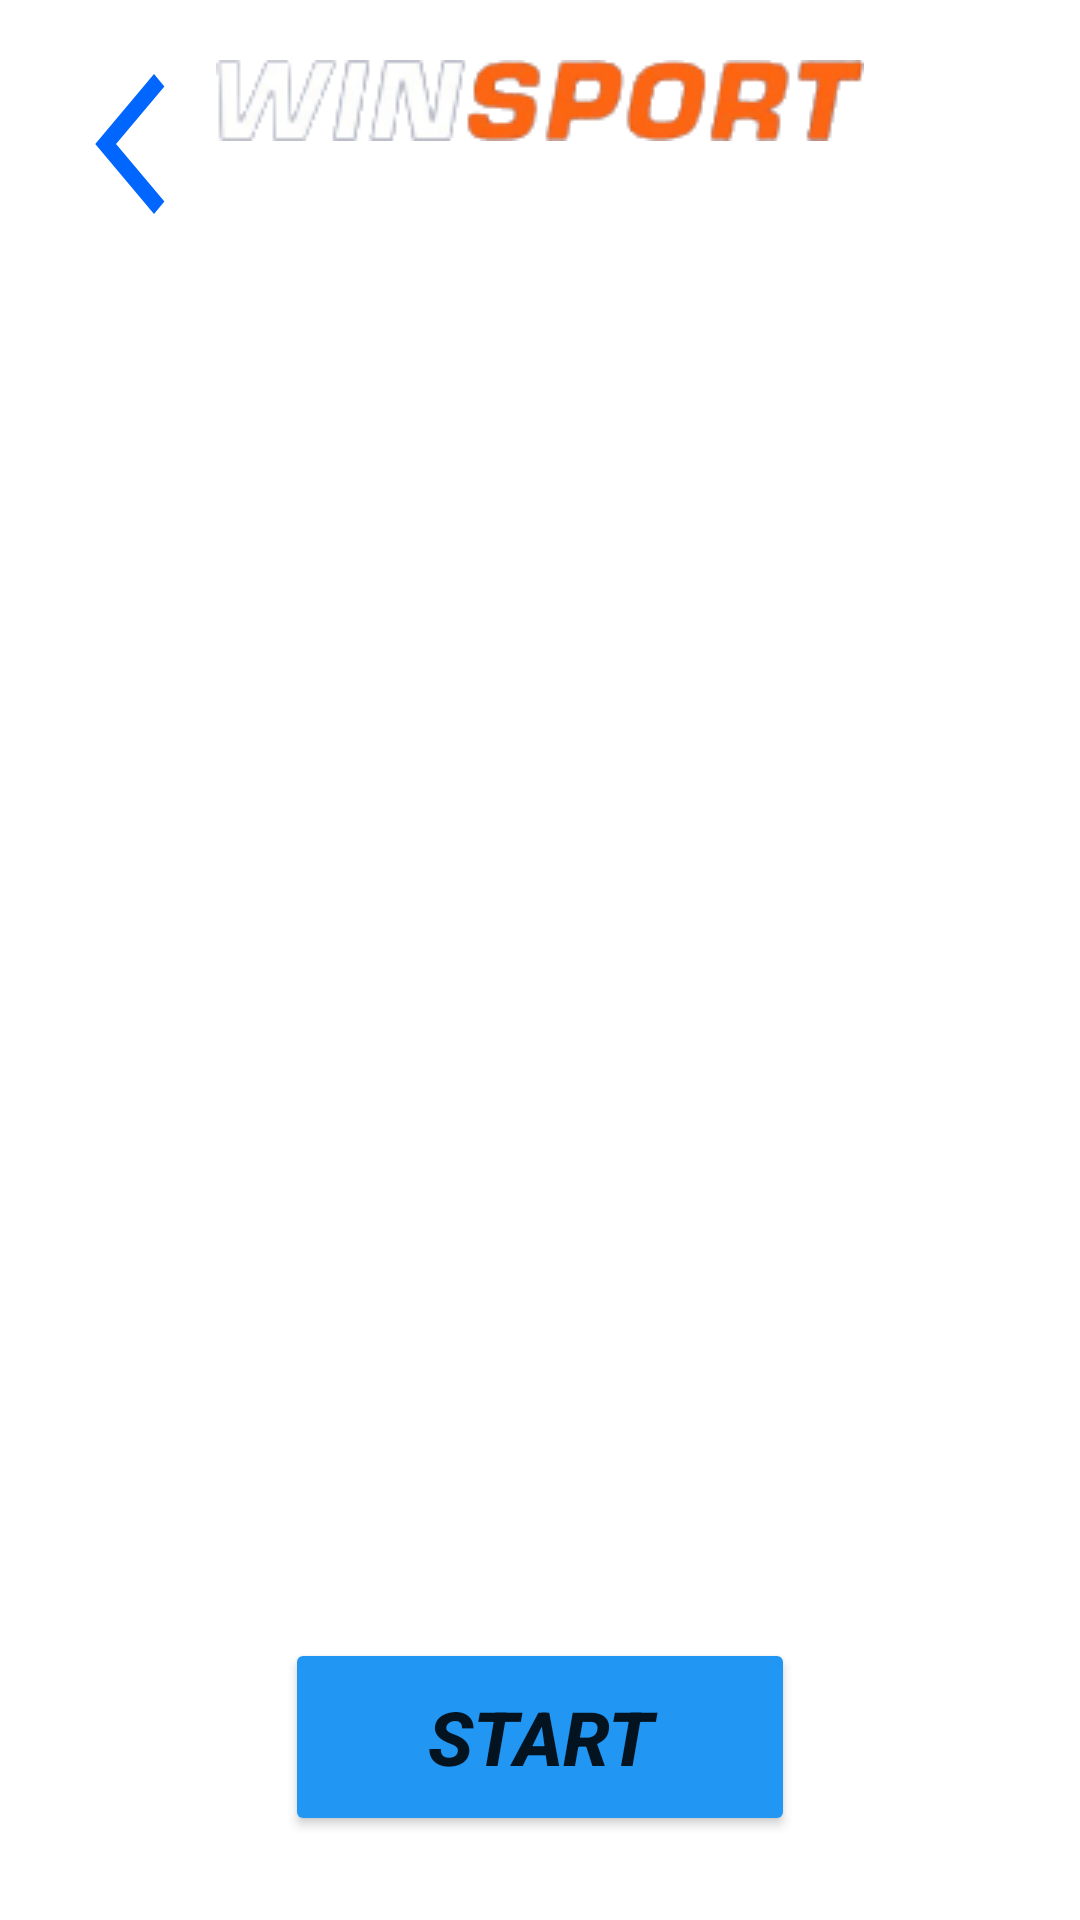

Locate icon controls on the screen. Image size 1080px×1920px, boxes as (x1, y1, x2, y2).
arrow back: (95, 74, 165, 214)
